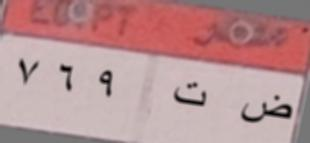6: (52, 59, 76, 92)
7: (15, 53, 41, 88)
9: (94, 68, 118, 103)
daad: (238, 86, 295, 132)
taa: (170, 75, 210, 112)
